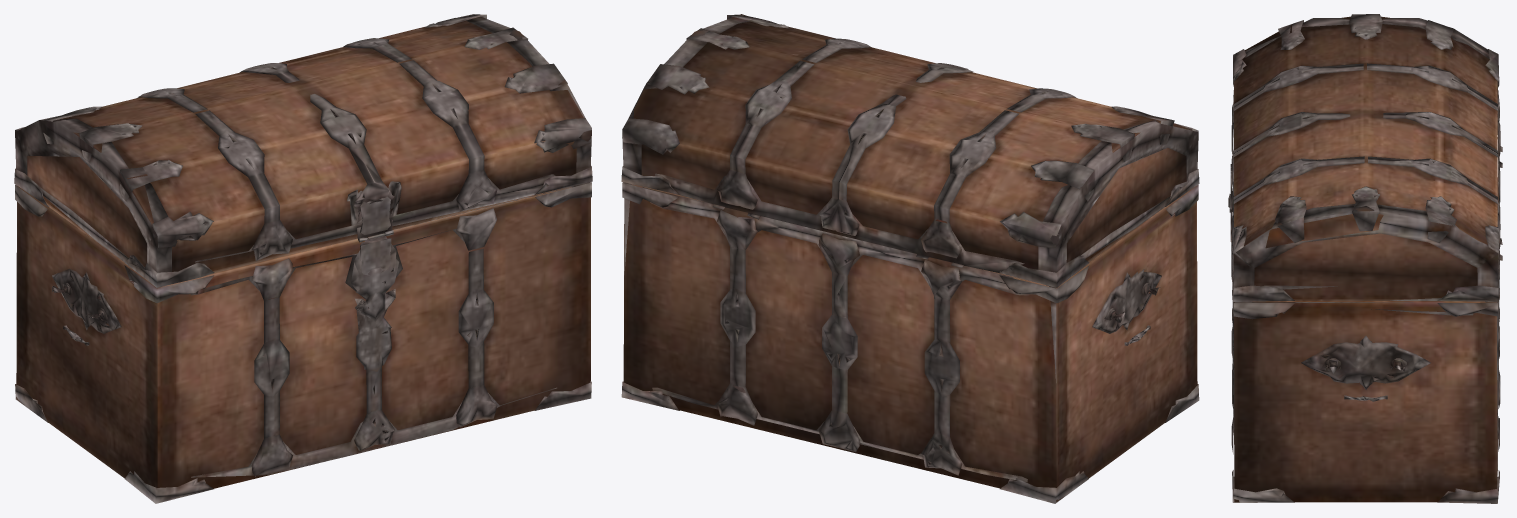
File: treasure_chest.glb
The picture shows the model from 3 angles, left to right: view 1: azimuth 30°, elevation 25°; view 2: azimuth 150°, elevation 25°; view 3: azimuth 270°, elevation 25°; orthographic projection. The views are drawn at different scales.
Size of the model in its own units: 0.9512 by 0.6159 by 0.5222.
Materials: 1 (1 with a texture image).
